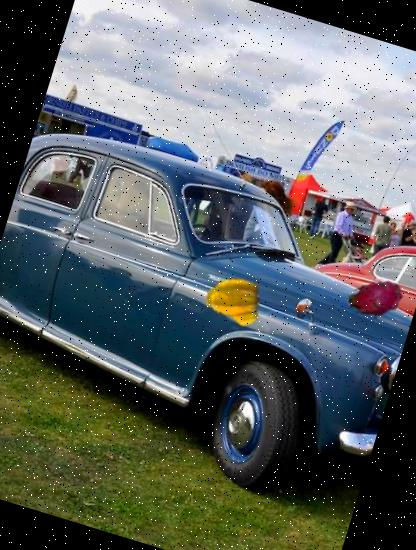Physalis: (198, 268, 266, 336)
Pitahaya: (342, 266, 411, 336)
